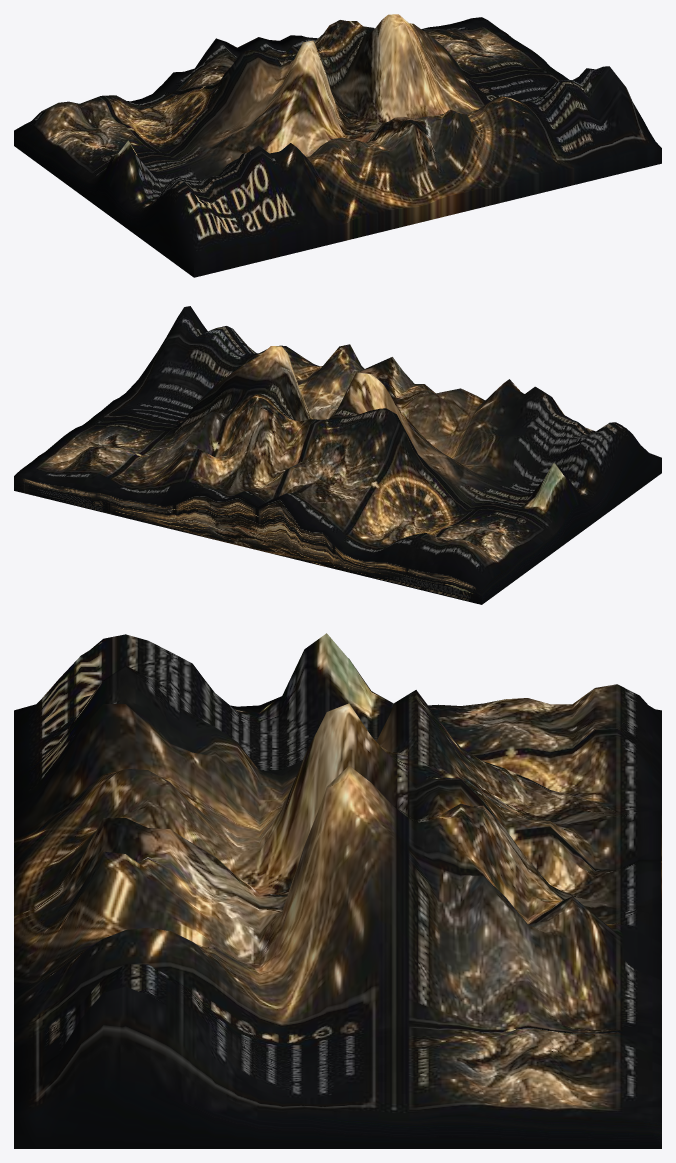
Rendered from CUL_52_Time_Slow.glb.
3 views of the same model, one above another, from view 1: azimuth 30°, elevation 25°; view 2: azimuth 150°, elevation 25°; view 3: azimuth 270°, elevation 25° (orthographic). The views are drawn at different scales.
Parts seen in each view (by area): view 1: CUL_52_Time_Slow; view 2: CUL_52_Time_Slow; view 3: CUL_52_Time_Slow.
Part boxes in pixels (x1,y1,x2,y2): CUL_52_Time_Slow: (14,14,661,277); CUL_52_Time_Slow: (14,306,661,604); CUL_52_Time_Slow: (14,633,661,1148).
Bounding box in the file's own units: 2 × 0.51 × 1.33.
1 material, 1 textured.
